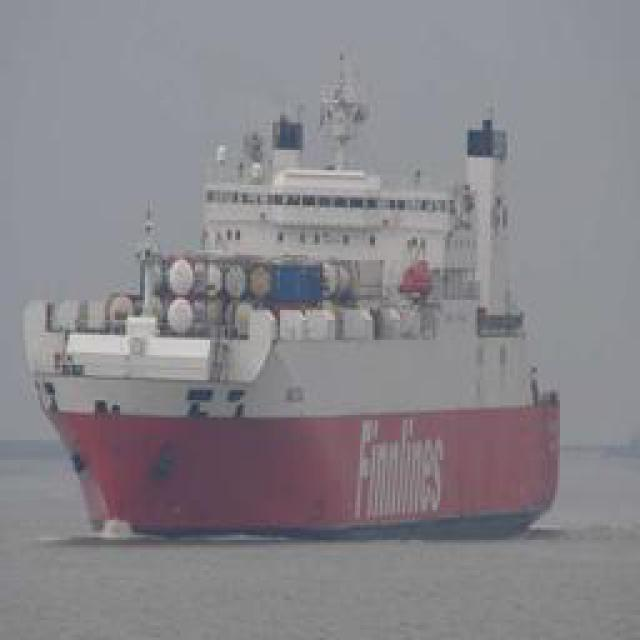Ship: (25, 176, 565, 539)
